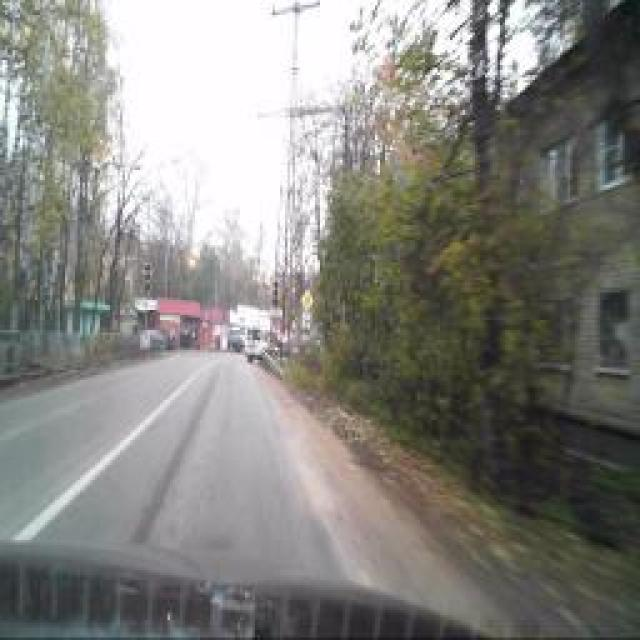sign: (301, 289, 314, 311)
